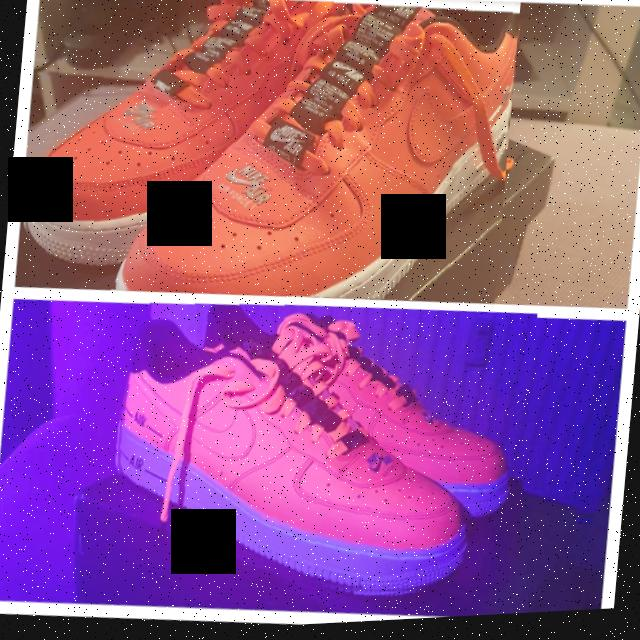shoe: (16, 0, 521, 327), (101, 283, 537, 624)
